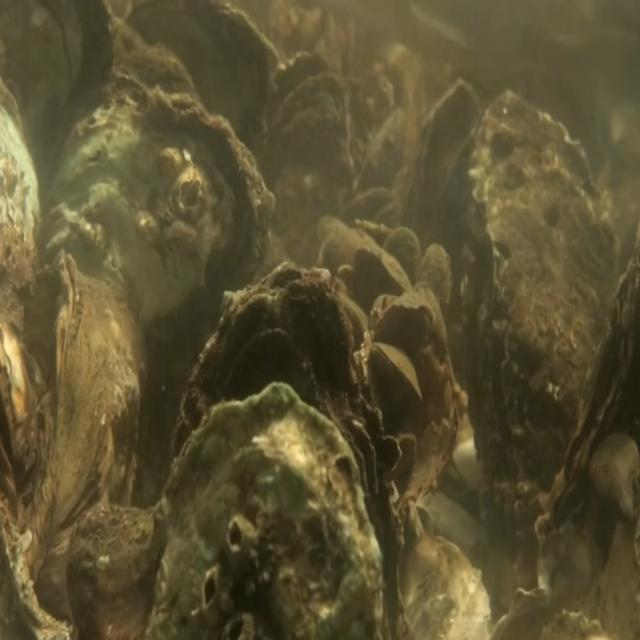Oyster-Closed: (45, 83, 274, 497), (171, 259, 402, 640), (456, 87, 614, 530), (145, 381, 384, 640), (532, 217, 640, 590), (368, 340, 422, 403), (378, 299, 436, 347)
Oyster-Indeterminate: (28, 250, 142, 640), (402, 76, 483, 306), (354, 241, 414, 295), (382, 224, 422, 296), (418, 242, 452, 317)
Oyster-Open: (254, 48, 351, 260)
